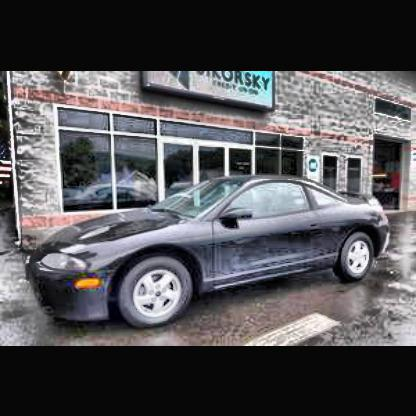Eagle Talon Hatchback 1998: (23, 174, 393, 333)
